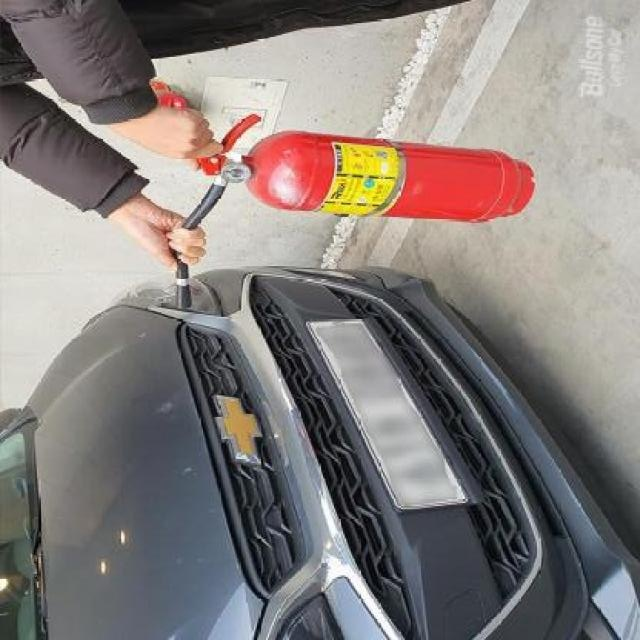fire extinguisher: (166, 97, 537, 311)
